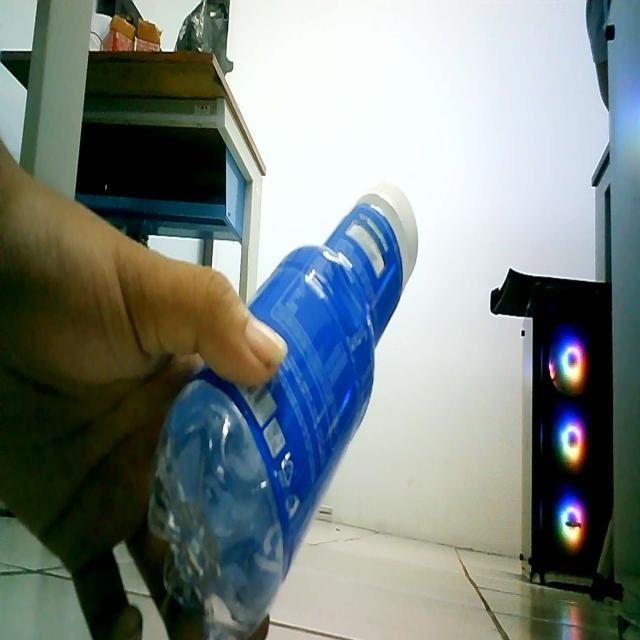botol: (128, 143, 431, 640)
